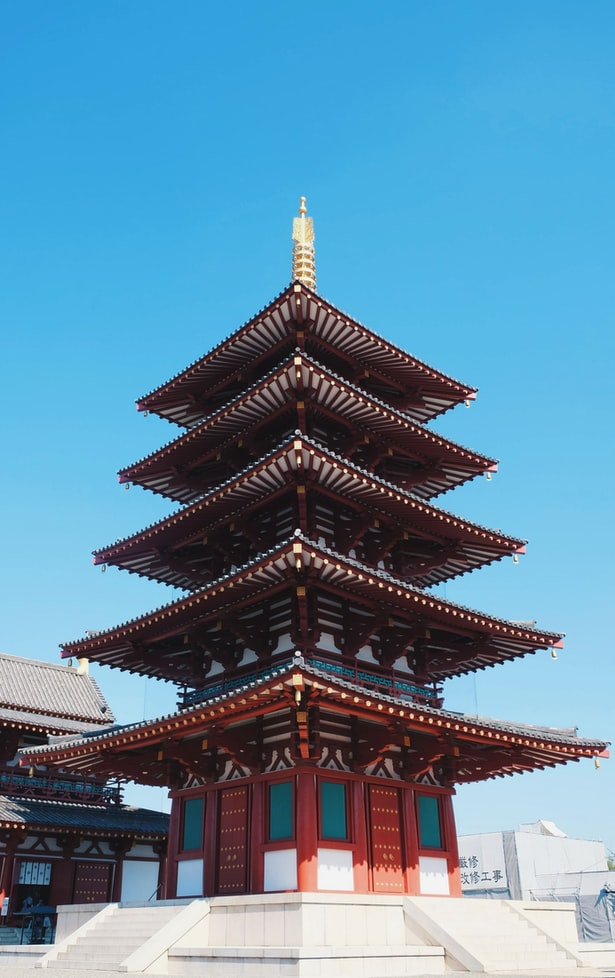Temple: (64, 199, 596, 848)
